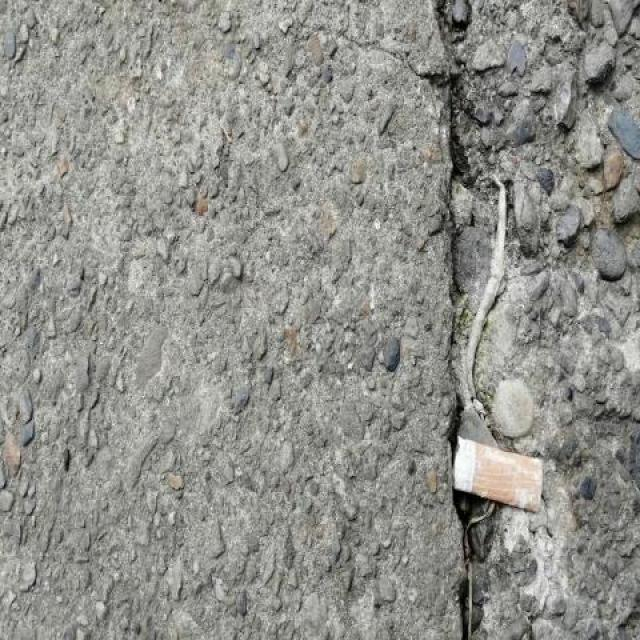non-organic waste: (447, 432, 546, 519)
